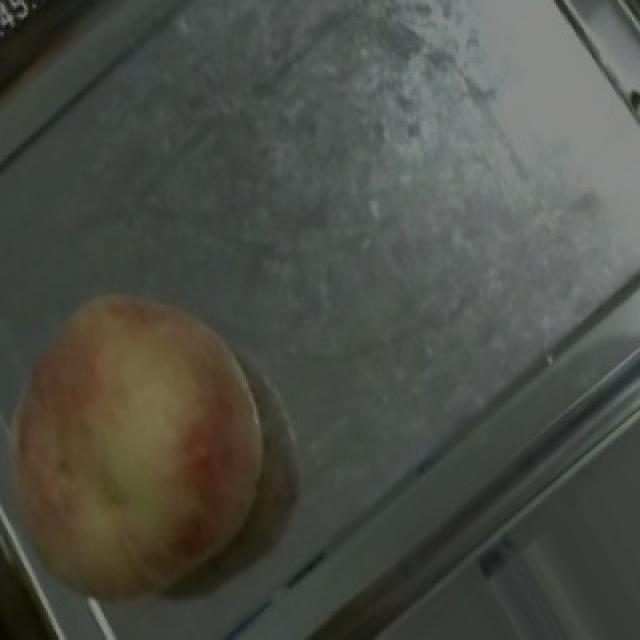Fruit: (0, 250, 306, 600)
